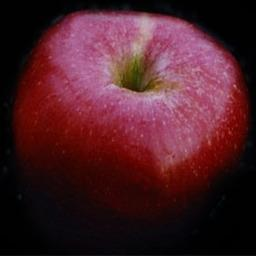apple: (6, 6, 254, 247)
